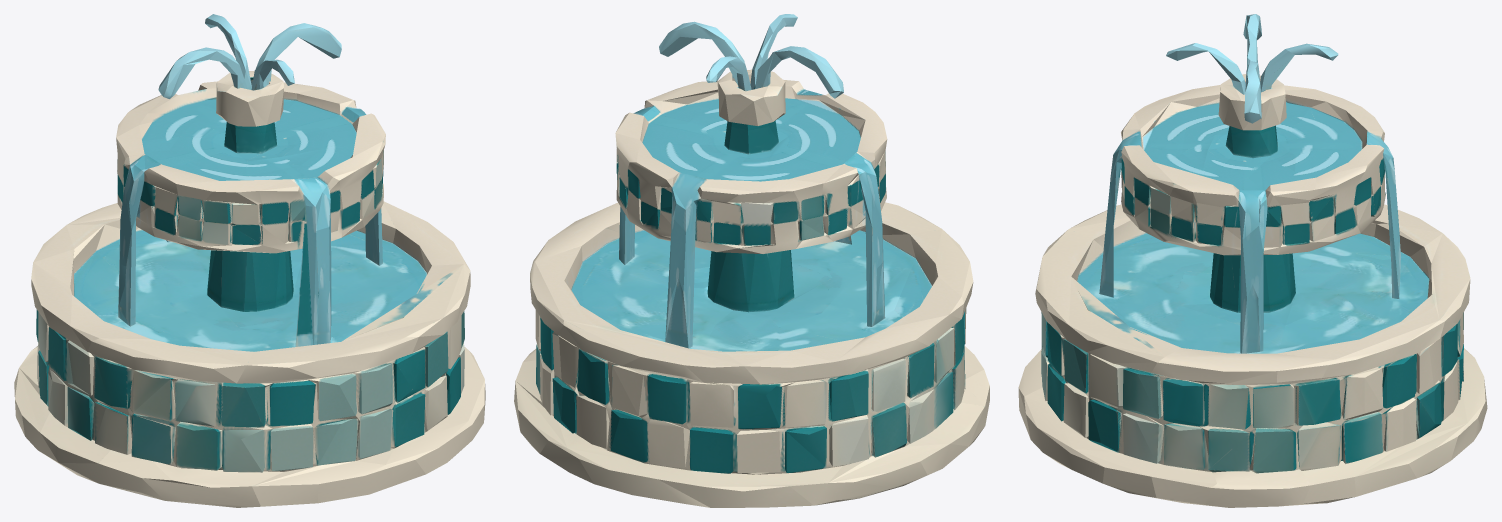
The picture shows the model from 3 angles, left to right: view 1: azimuth 30°, elevation 25°; view 2: azimuth 150°, elevation 25°; view 3: azimuth 270°, elevation 25°; orthographic projection.
Size of the model in its own units: 1.89 by 1.66 by 1.9.
1 material, 1 textured.
